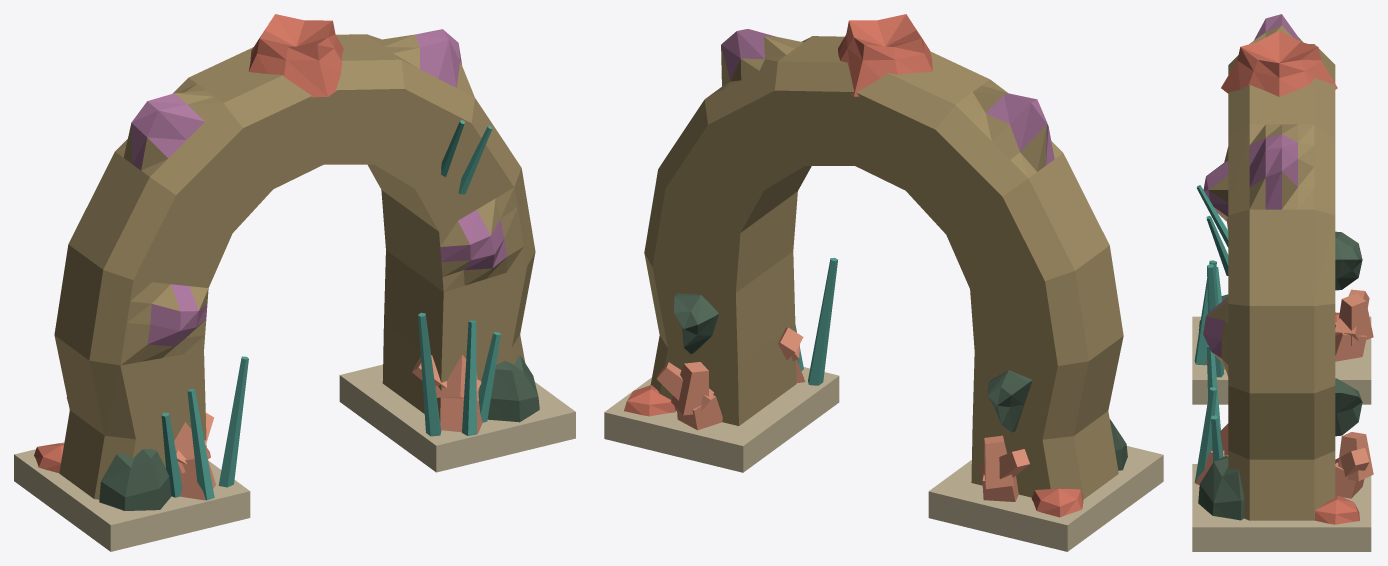
Rendered from reef-swim-through-arch-648930.glb.
3 views of the same model, side by side, from view 1: azimuth 30°, elevation 25°; view 2: azimuth 150°, elevation 25°; view 3: azimuth 270°, elevation 25° (orthographic). The views are drawn at different scales.
Visible parts, largest first — view 1: arch, whips-r, whips-l, whips-span; view 2: arch, whips-r; view 3: arch, whips-r, whips-l, whips-span.
Part boxes in pixels (bbox=[...]): arch: bbox=[14, 14, 575, 551]; whips-r: bbox=[418, 312, 500, 436]; whips-l: bbox=[161, 356, 248, 500]; whips-span: bbox=[441, 120, 492, 194]; arch: bbox=[604, 14, 1163, 551]; whips-r: bbox=[795, 257, 837, 385]; arch: bbox=[1192, 14, 1373, 551]; whips-r: bbox=[1194, 345, 1223, 482]; whips-l: bbox=[1194, 260, 1224, 377]; whips-span: bbox=[1196, 185, 1228, 275].
Bounding box in the file's own units: 4 × 3.55 × 1.46.
